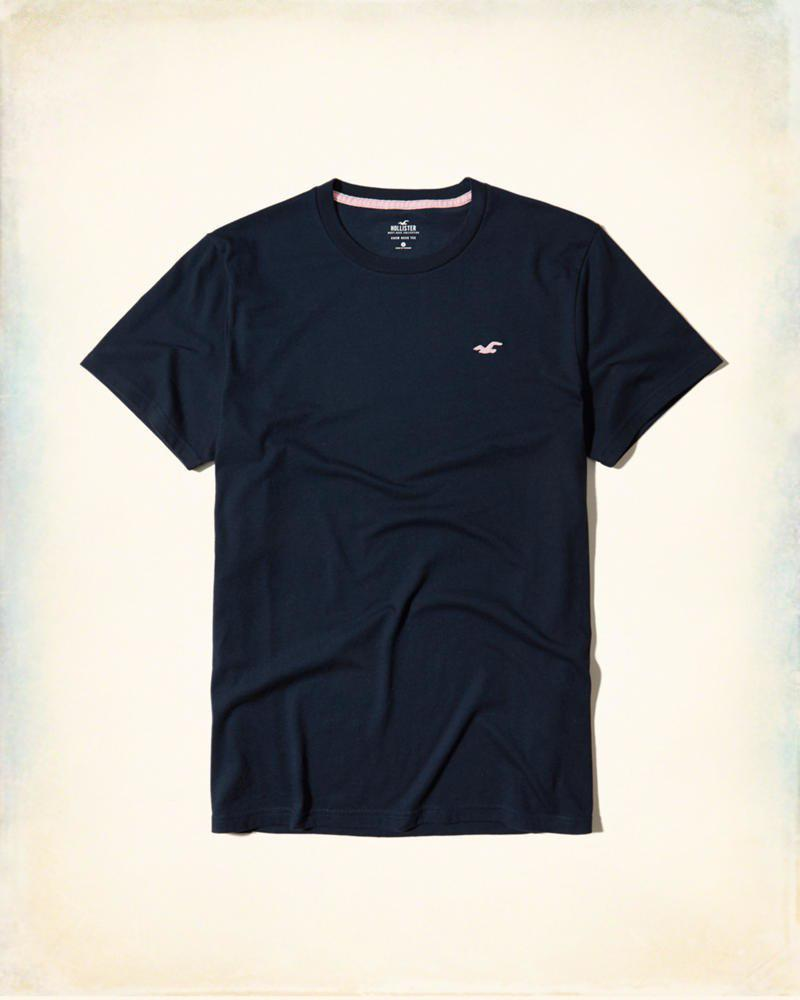teeshirt: (52, 177, 732, 862)
